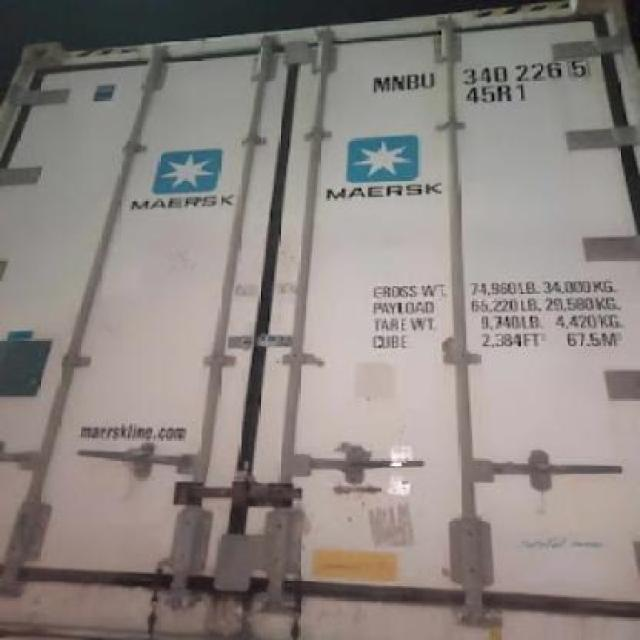ISO: (461, 83, 528, 108)
container_number: (370, 55, 592, 97)
